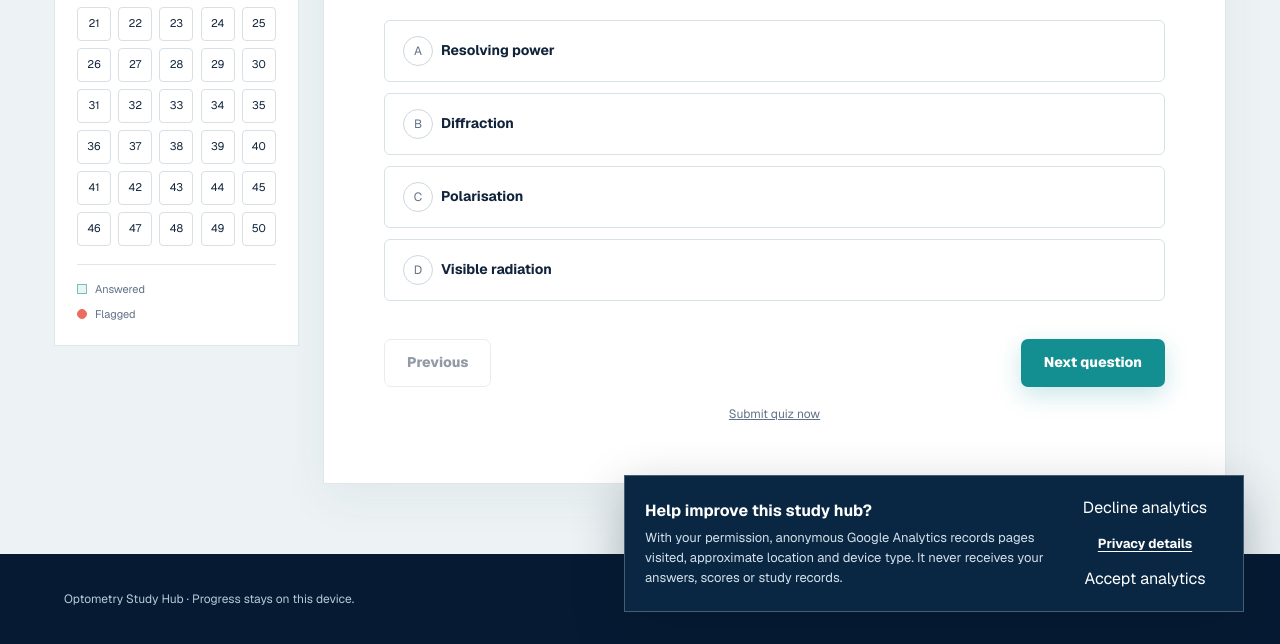
Test: hard curated learner-path cutover › still resumes and submits an active previous attempt without offering restart
(page scrolled)
Click the button "Submit quiz now" at (774, 414), box top-left (729, 405), bottom-right (820, 423)
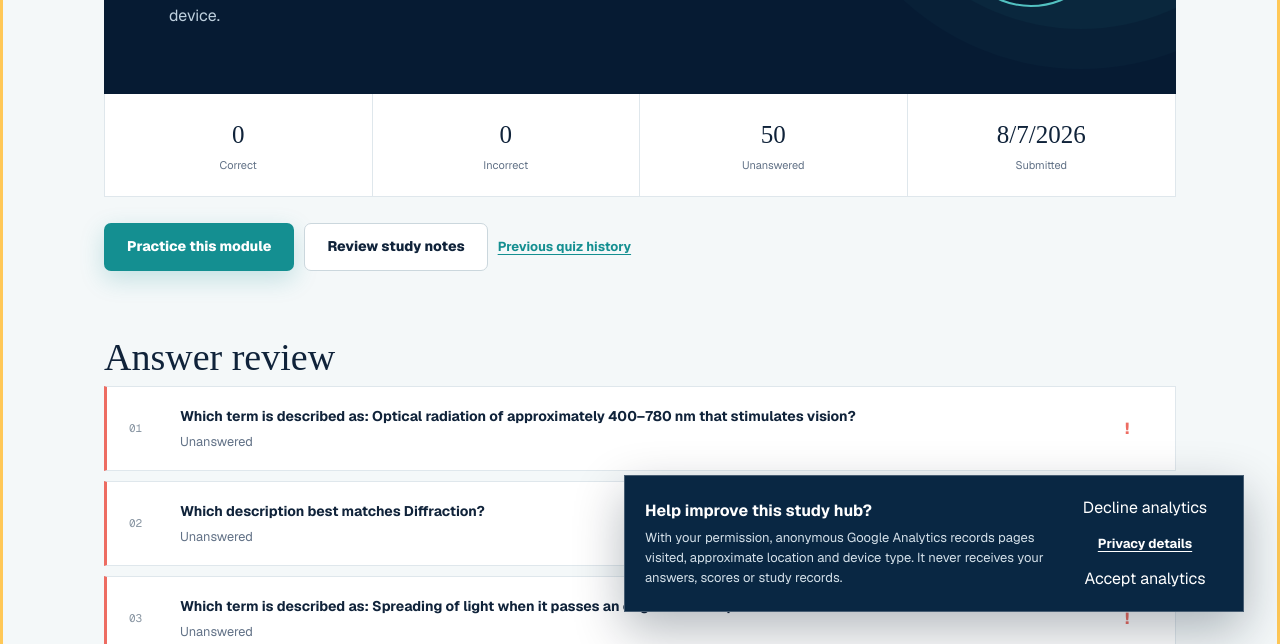
Expected: the heading "Answer review" is shown, top-left (104, 336), bottom-right (335, 378)
Expected: the button "Practice this module" is shown, top-left (104, 223), bottom-right (294, 271)
